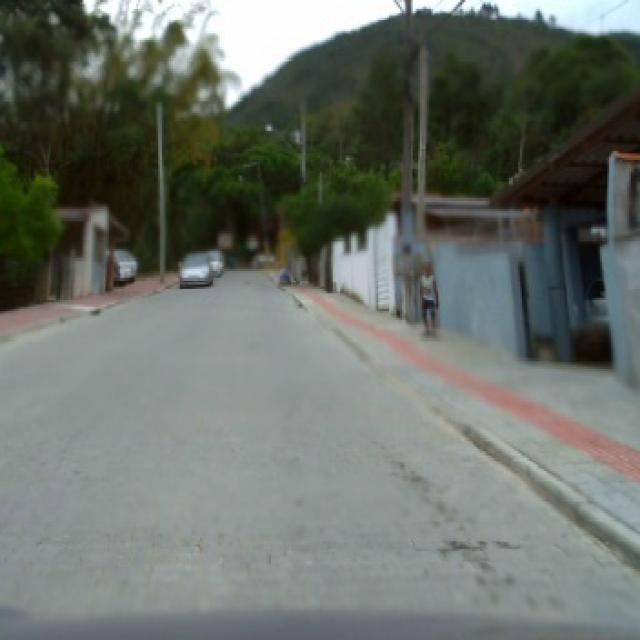Poth-hole: (87, 306, 100, 314)
